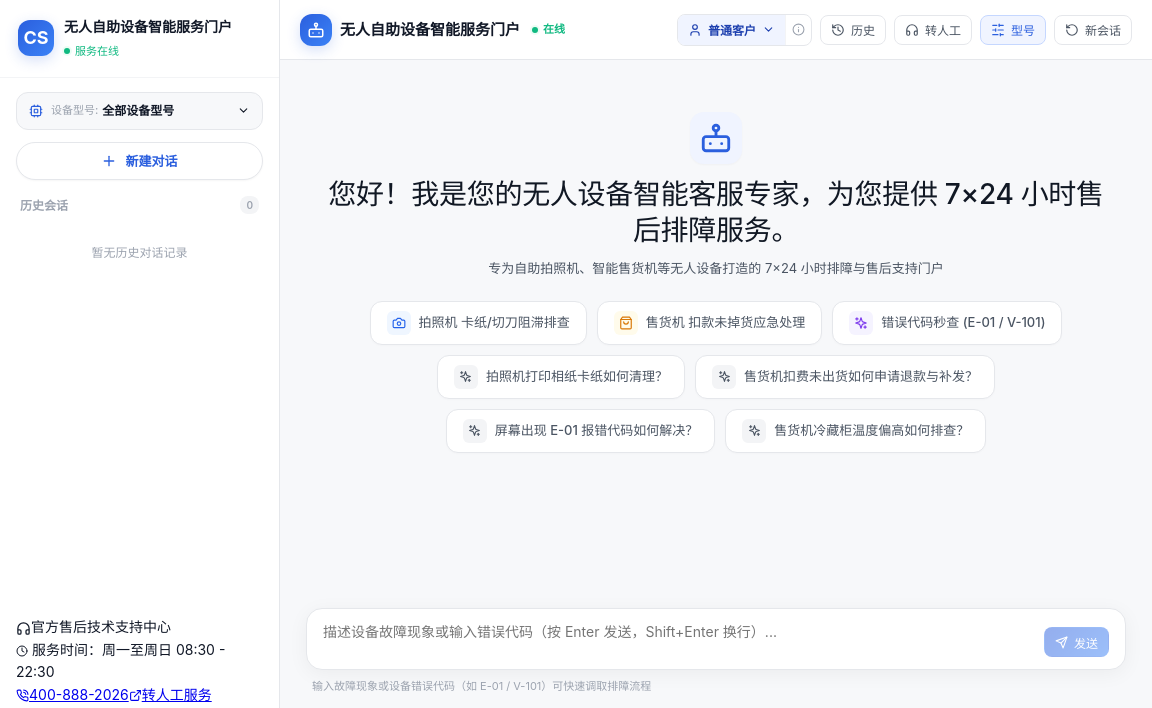
Tier 3 Integration: Model Switch & Checklist Reset Interaction › T3-SWT-01: active messages exist -> user switches model -> confirm dialog clears checklist & starts new session
Expected: the text "无人自助设备智能服务门户" next to "CS" is shown, [64,18,232,35]
// Select initial model DT-2026
Click the button "设备型号: 全部设备型号". click: (140, 111)
box: [16,92,263,130]
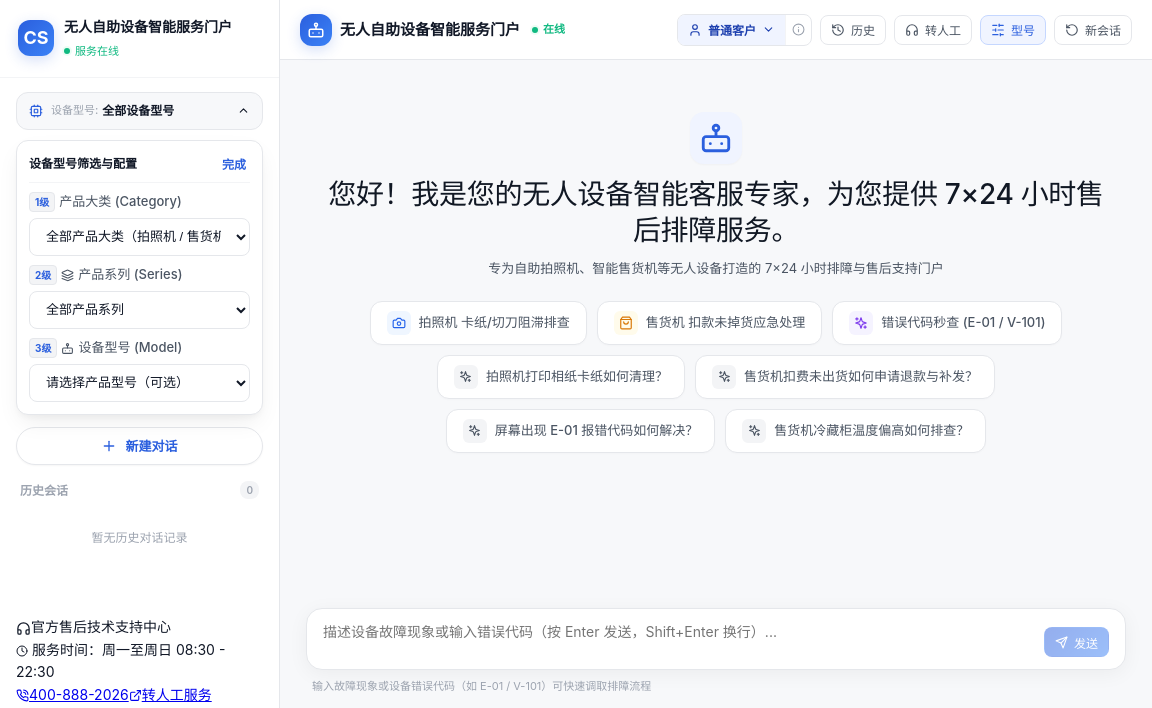
Select "DT-2026 桌面全能拍照机 (PHOTO-DT2026)" in the dropdown labelled "3级 设备型号 (Model)". click: (140, 383)
box: [29,364,250,402]
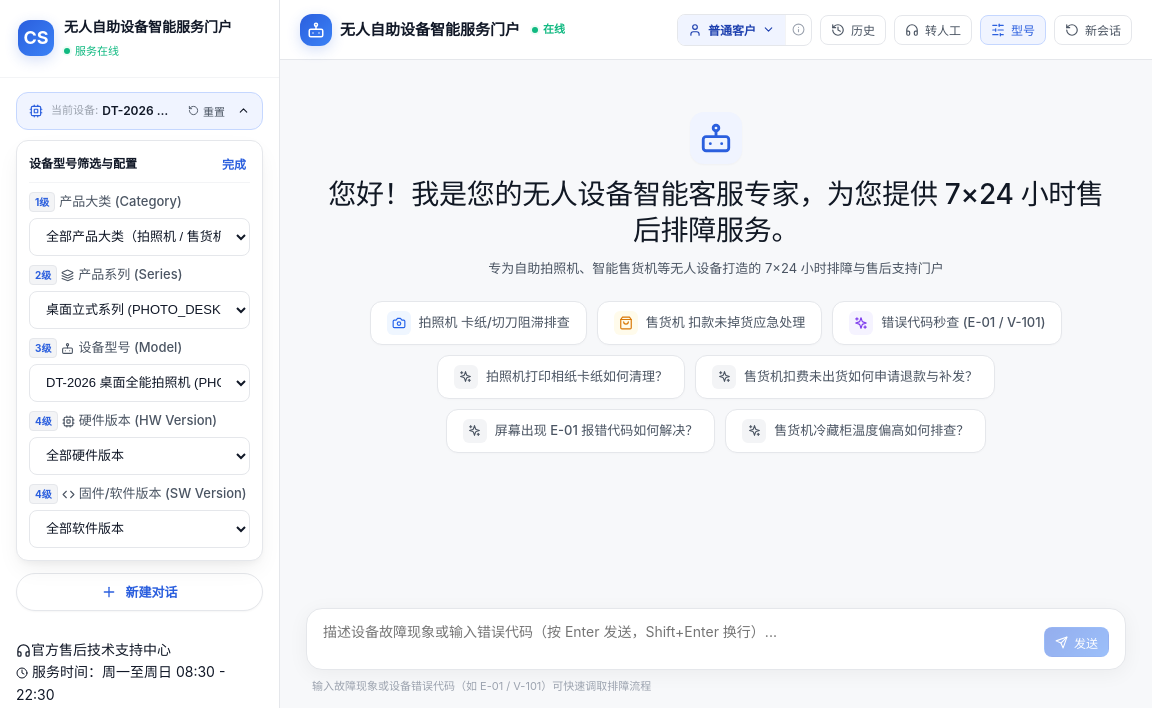
// Send a message to get troubleshoot checklist
Type "拍照机卡纸" into the text box named "输入设备咨询问题". click: (678, 639)
box: [323,619,1032,659]
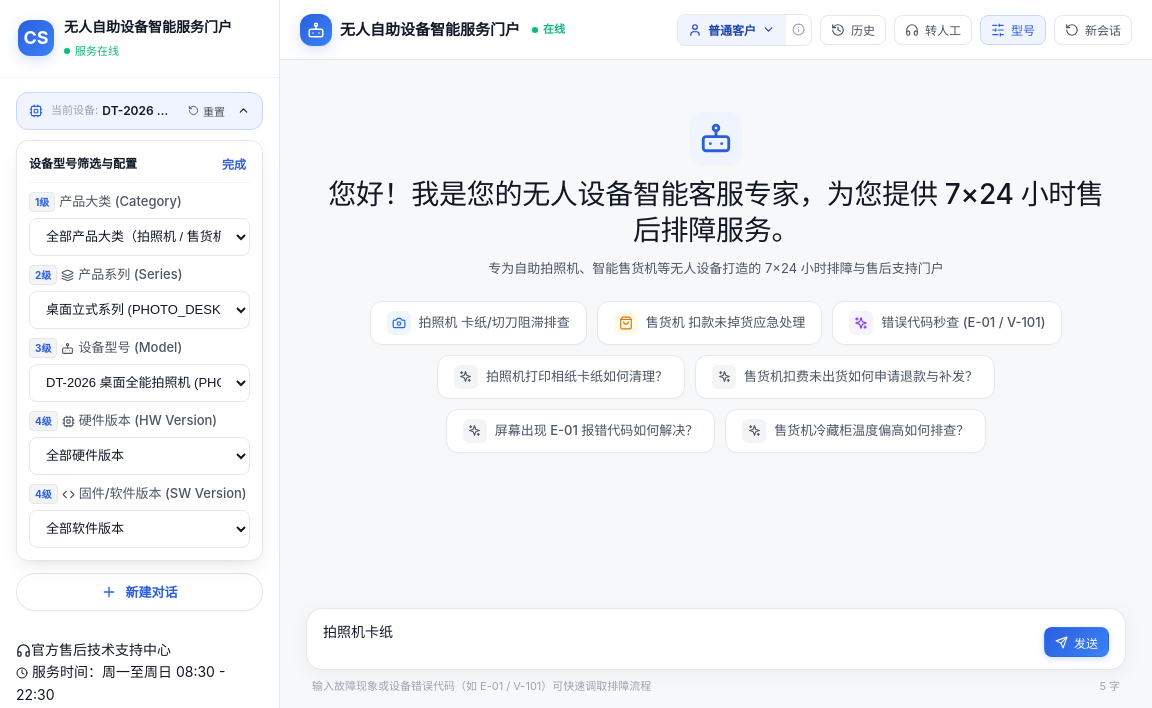
Click the button titled "发送问题 (Enter)". click: (1076, 642)
box: [1044,627,1109,657]
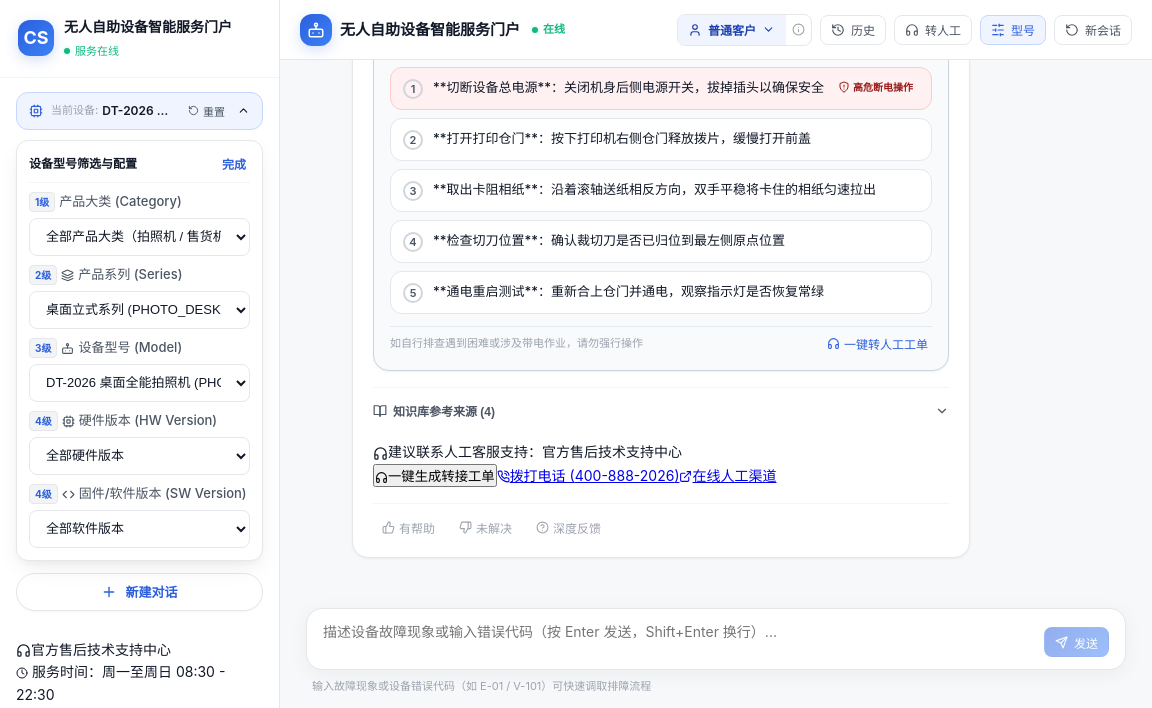
// Check step 1
Click the checkbox labelled "1 **切断设备总电源**：关闭机身后侧电源开关，拔掉插头以确保安全 高危断电操作". click: (661, 89)
box: [390,67,932,110]
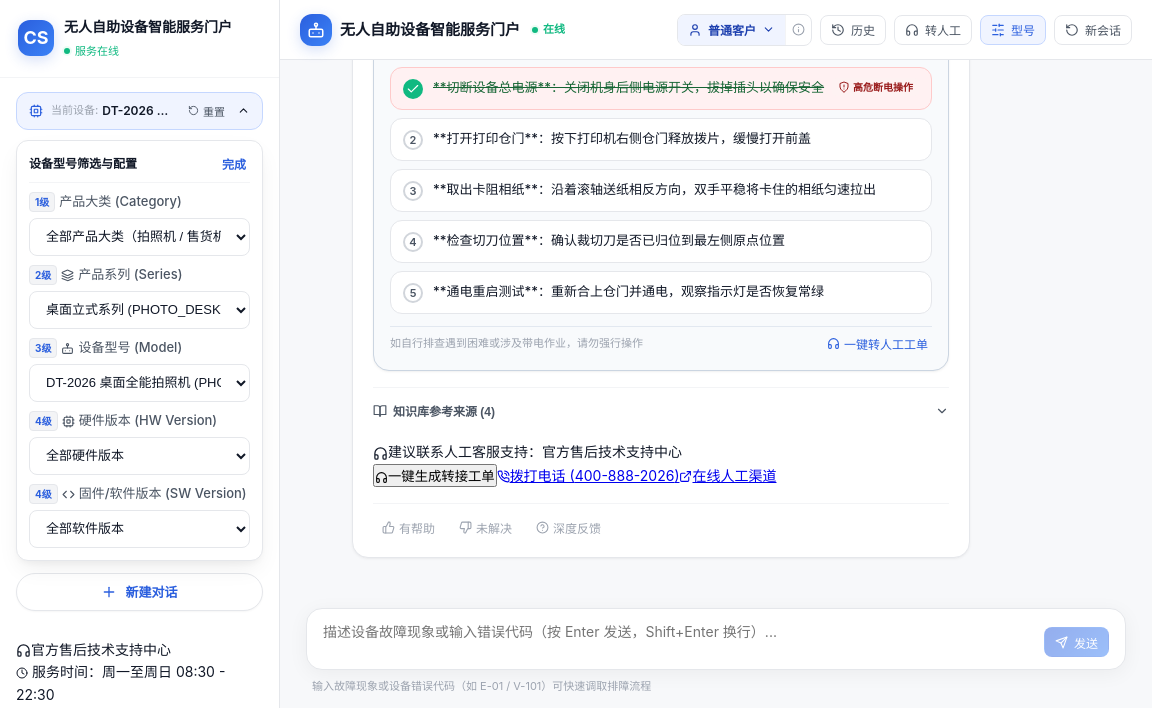
Select "SP-60 标准综合售货机 (VEND-SP60)" in the dropdown labelled "3级 设备型号 (Model)". click: (140, 383)
box: [29,364,250,402]
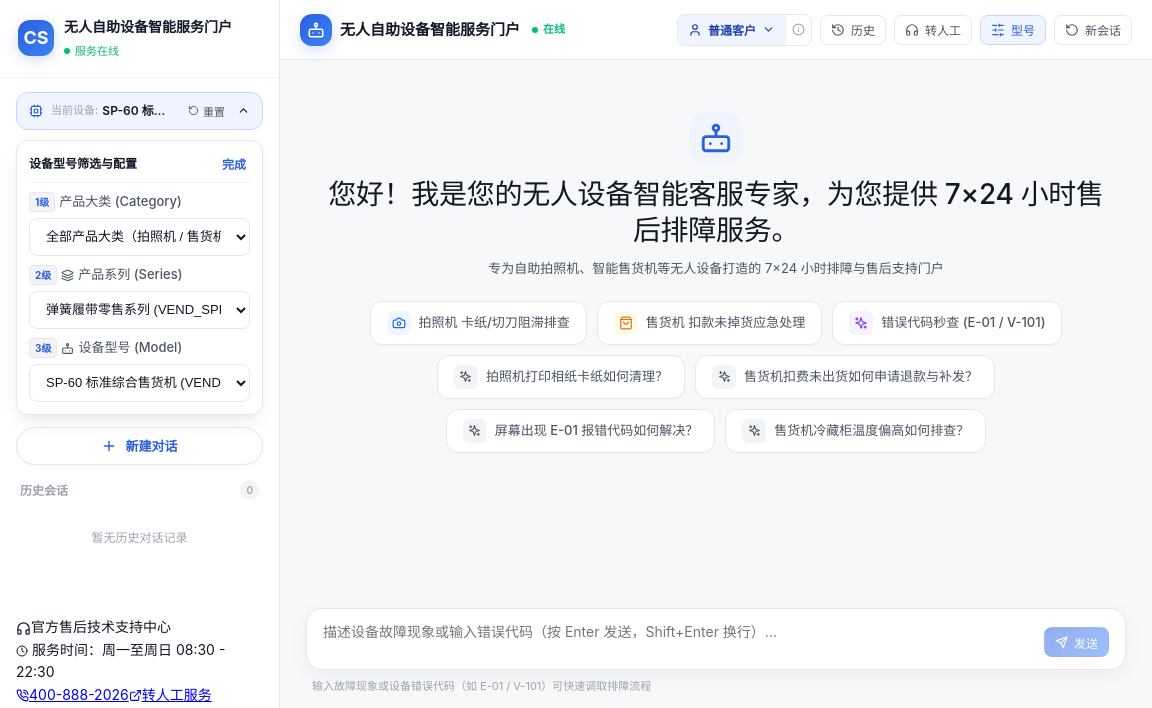
Expected: the text "交互式步骤排查清单（可逐项勾选）" is not shown
Expected: the text "拍照机 卡纸/切刀阻滞排查" is shown, [418,312,570,333]
